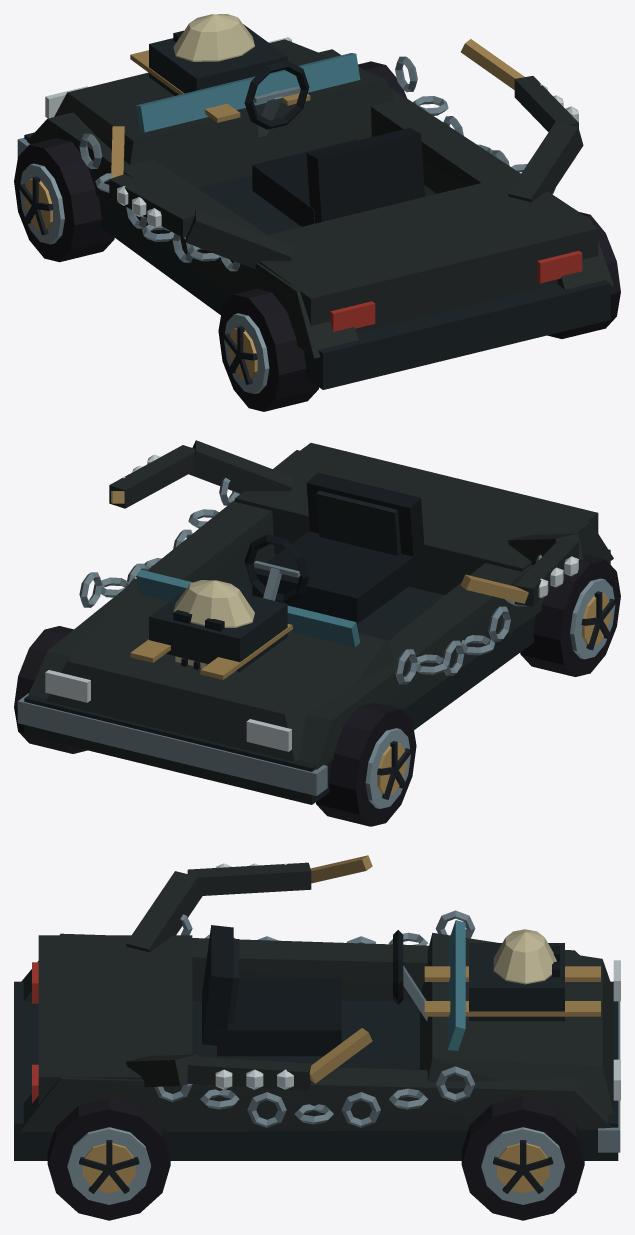
The model's file is kart.glb.
3 renders of one model, top to bottom at view 1: azimuth 30°, elevation 25°; view 2: azimuth 150°, elevation 25°; view 3: azimuth 270°, elevation 25°, orthographic.
Visible parts, largest first — view 1: identity-muscle-car-muscle-car-road-car-body, identity-muscle-car-driver-cockpit, identity-muscle-car-motif-tentacles, wheel-front-left, wheel-rear-left, identity-muscle-car-motif-chains, identity-muscle-car-motif-skull, wheel-rear-right, wheel-front-right; view 2: identity-muscle-car-muscle-car-road-car-body, identity-muscle-car-driver-cockpit, identity-muscle-car-motif-tentacles, wheel-front-left, wheel-rear-left, identity-muscle-car-motif-chains, identity-muscle-car-motif-skull, wheel-front-right; view 3: identity-muscle-car-muscle-car-road-car-body, identity-muscle-car-motif-tentacles, identity-muscle-car-driver-cockpit, wheel-front-right, wheel-rear-right, identity-muscle-car-motif-chains, identity-muscle-car-motif-skull.
Part boxes in pixels (bbox=[...]): identity-muscle-car-muscle-car-road-car-body: bbox=[17, 24, 613, 389]; identity-muscle-car-driver-cockpit: bbox=[244, 60, 424, 226]; identity-muscle-car-motif-tentacles: bbox=[109, 39, 583, 268]; wheel-front-left: bbox=[14, 138, 114, 262]; wheel-rear-left: bbox=[218, 288, 318, 411]; identity-muscle-car-motif-chains: bbox=[79, 56, 555, 271]; identity-muscle-car-motif-skull: bbox=[173, 14, 254, 61]; wheel-rear-right: bbox=[547, 212, 620, 338]; wheel-front-right: bbox=[358, 61, 406, 97]; identity-muscle-car-muscle-car-road-car-body: bbox=[17, 443, 613, 804]; identity-muscle-car-driver-cockpit: bbox=[244, 472, 425, 623]; identity-muscle-car-motif-tentacles: bbox=[109, 440, 583, 606]; wheel-front-left: bbox=[316, 703, 416, 826]; wheel-rear-left: bbox=[520, 554, 620, 676]; identity-muscle-car-motif-chains: bbox=[79, 477, 541, 684]; identity-muscle-car-motif-skull: bbox=[173, 580, 254, 669]; wheel-front-right: bbox=[14, 626, 87, 753]; identity-muscle-car-muscle-car-road-car-body: bbox=[14, 920, 620, 1160]; identity-muscle-car-motif-tentacles: bbox=[126, 855, 372, 1090]; identity-muscle-car-driver-cockpit: bbox=[202, 925, 427, 1056]; wheel-front-right: bbox=[461, 1096, 584, 1220]; wheel-rear-right: bbox=[47, 1098, 170, 1220]; identity-muscle-car-motif-chains: bbox=[154, 910, 475, 1127]; identity-muscle-car-motif-skull: bbox=[493, 929, 559, 984].
Bounding box in the file's own units: 2.45 × 1.1 × 2.96.
